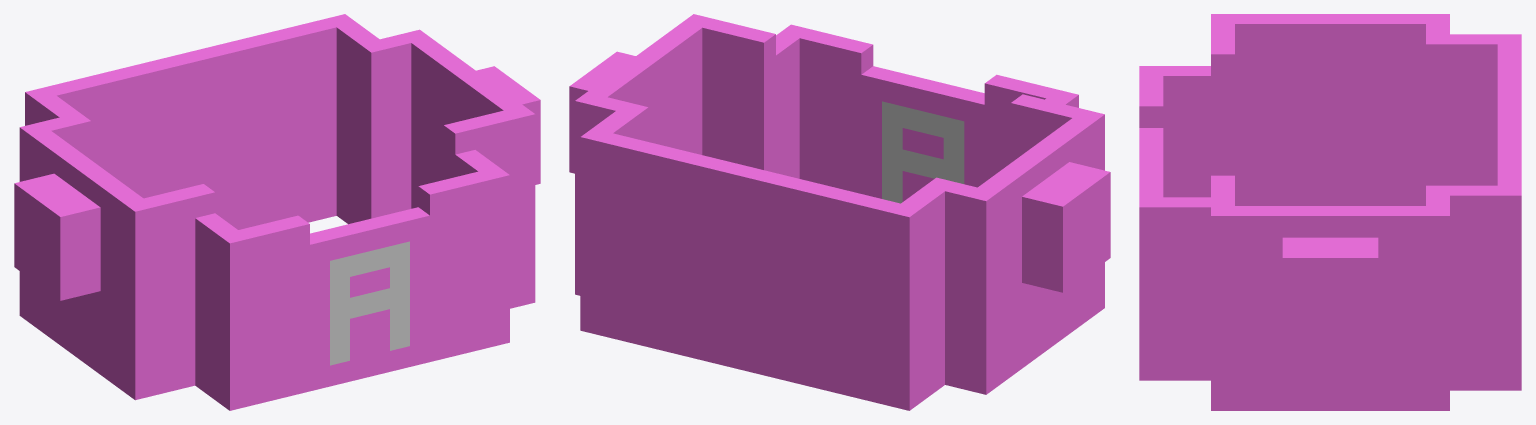
3 renders of one model, left to right at view 1: azimuth 30°, elevation 25°; view 2: azimuth 150°, elevation 25°; view 3: azimuth 270°, elevation 25°, orthographic. The views are drawn at different scales.
Visible parts, largest first — view 1: 56; view 2: 56; view 3: 56.
Part boxes in pixels (x1,y1,x2,y2): 56: [14, 14, 540, 410]; 56: [569, 14, 1110, 410]; 56: [1139, 14, 1521, 410].
Bounding box in the file's own units: 0.9449 × 0.3543 × 0.6299.
1 material, 1 textured.
